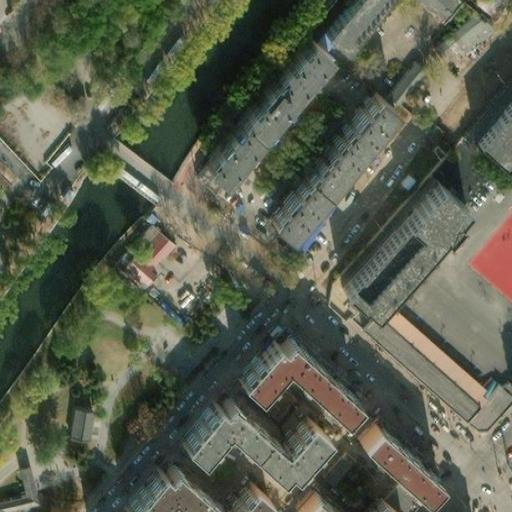building: (342, 295, 503, 425), (193, 36, 321, 185), (259, 92, 388, 239), (336, 176, 460, 308), (169, 402, 316, 480), (230, 342, 348, 424), (348, 423, 432, 503), (112, 467, 209, 512), (111, 226, 167, 290), (466, 80, 512, 156), (425, 147, 478, 198), (311, 0, 367, 45), (384, 57, 429, 107), (320, 448, 360, 490), (60, 396, 86, 433), (284, 496, 318, 512)
